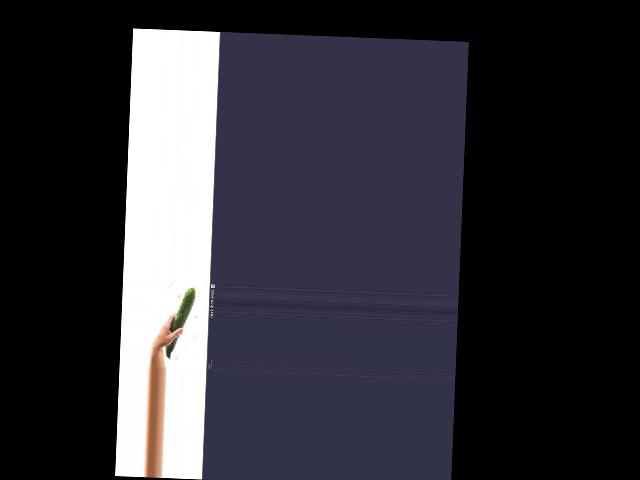cucumber: (164, 286, 196, 361)
